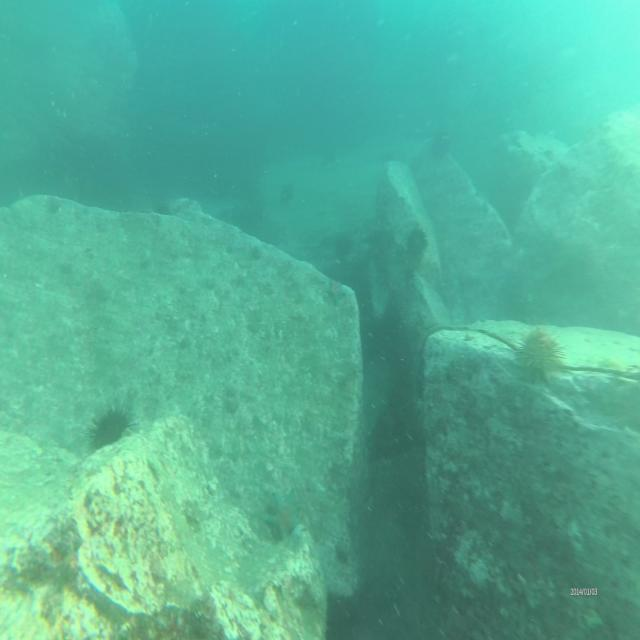echinus: (515, 322, 561, 384), (83, 404, 140, 453), (403, 219, 428, 262)
